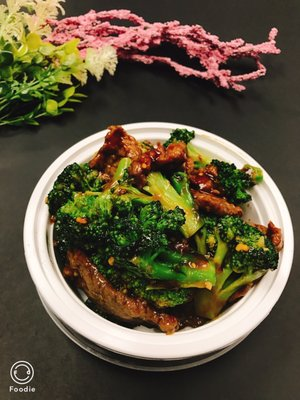curry: (46, 157, 278, 334), (145, 170, 203, 238), (210, 160, 259, 204), (162, 128, 195, 148)
